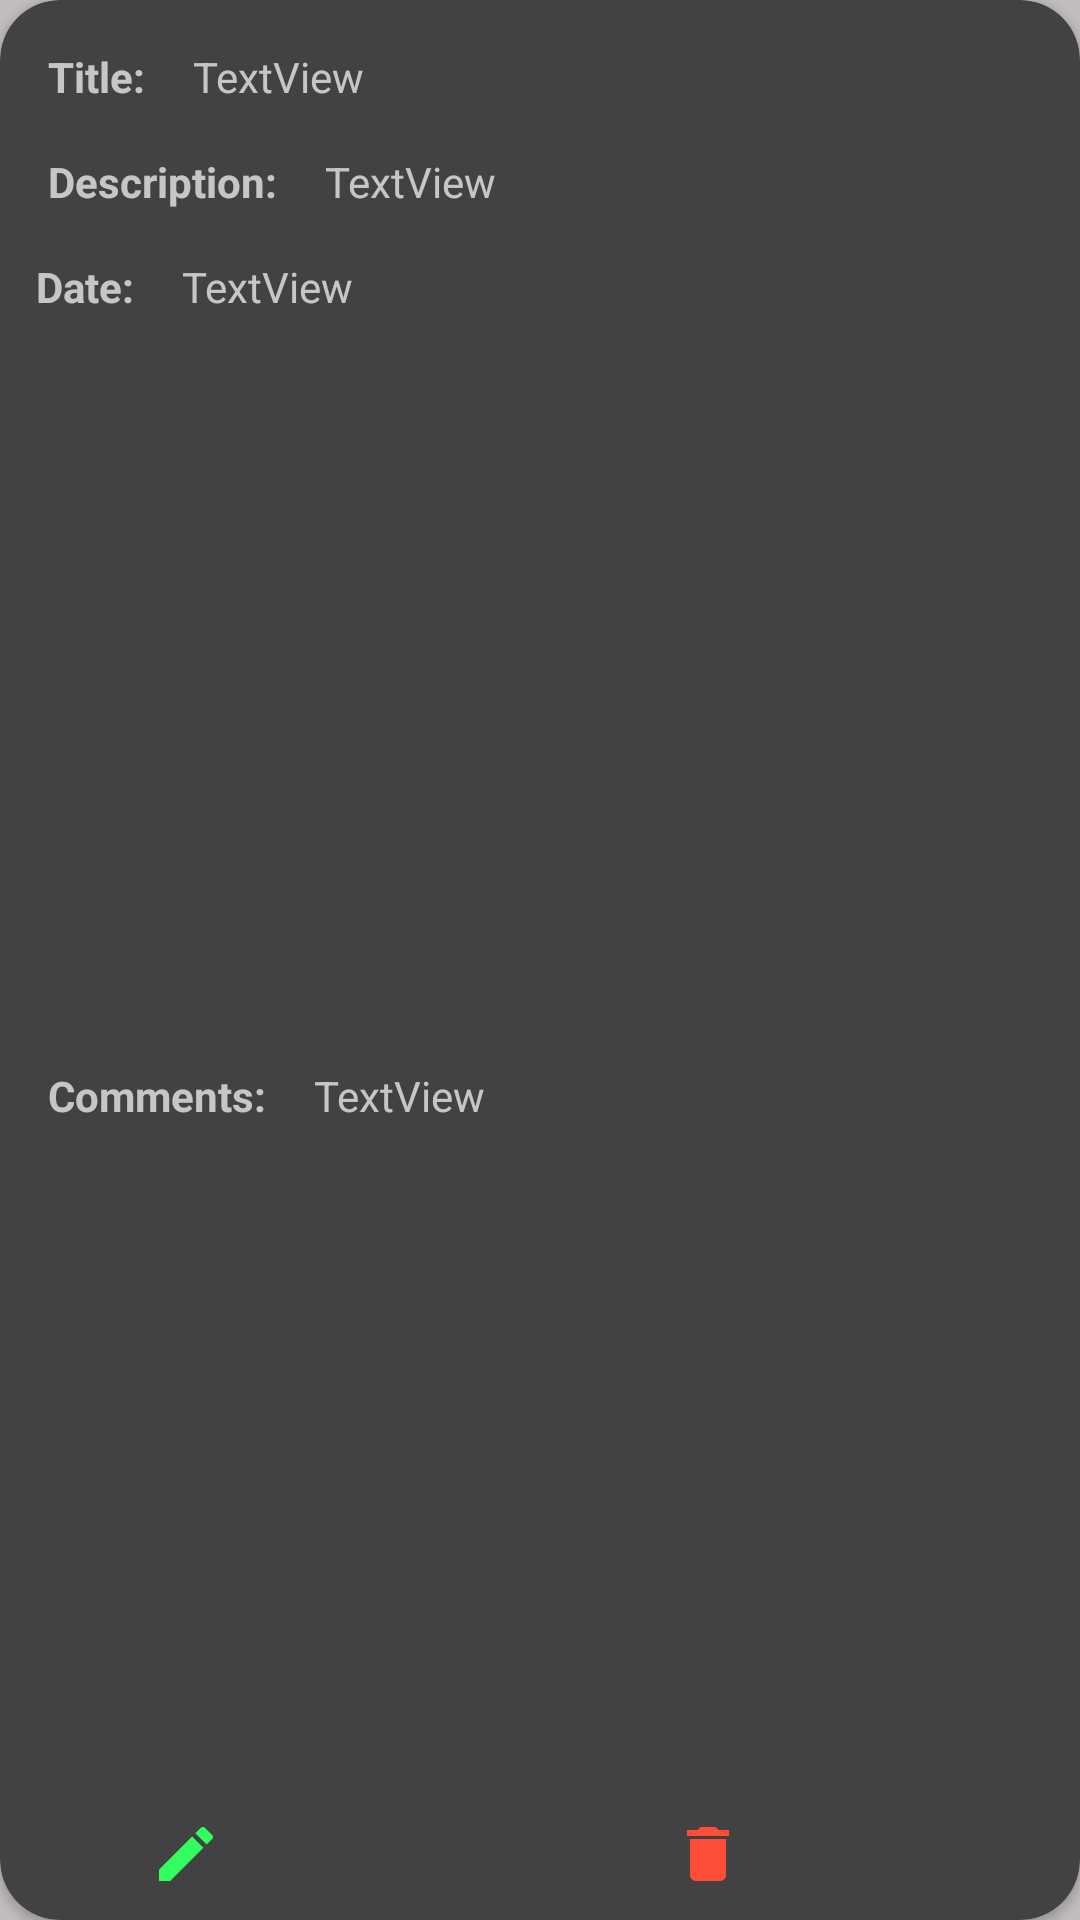

Where icons sit on this 1080px x 1920px app screen, as detection(x1, y1, x2, y2):
delete: detection(687, 1827, 729, 1881)
edit: detection(159, 1827, 213, 1881)
